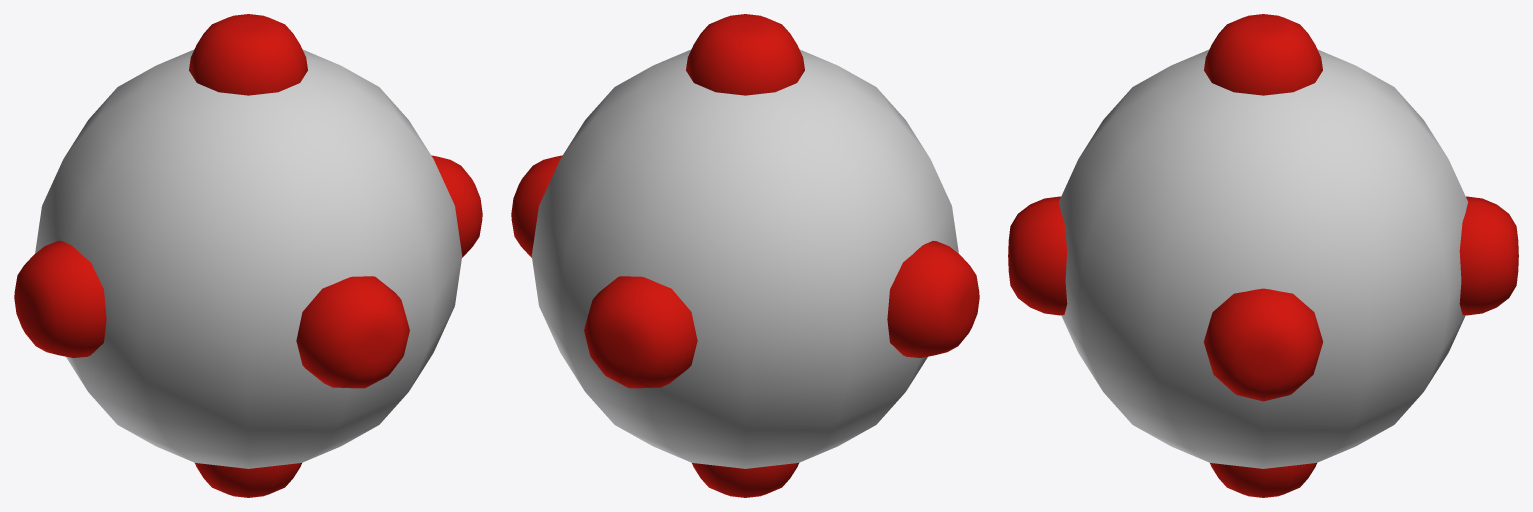
The model's file is Katamari-Ball.fbx.
The picture shows the model from 3 angles, left to right: view 1: azimuth 30°, elevation 25°; view 2: azimuth 150°, elevation 25°; view 3: azimuth 270°, elevation 25°; orthographic projection.
Parts seen in each view (by area): view 1: Sphere; view 2: Sphere; view 3: Sphere.
Boxes of the visible parts, box(x1,y1,x2,y2) form: Sphere: box(14, 14, 482, 497); Sphere: box(511, 14, 979, 497); Sphere: box(1008, 14, 1518, 497).
Bounding box in the file's own units: 239 × 239 × 239.
